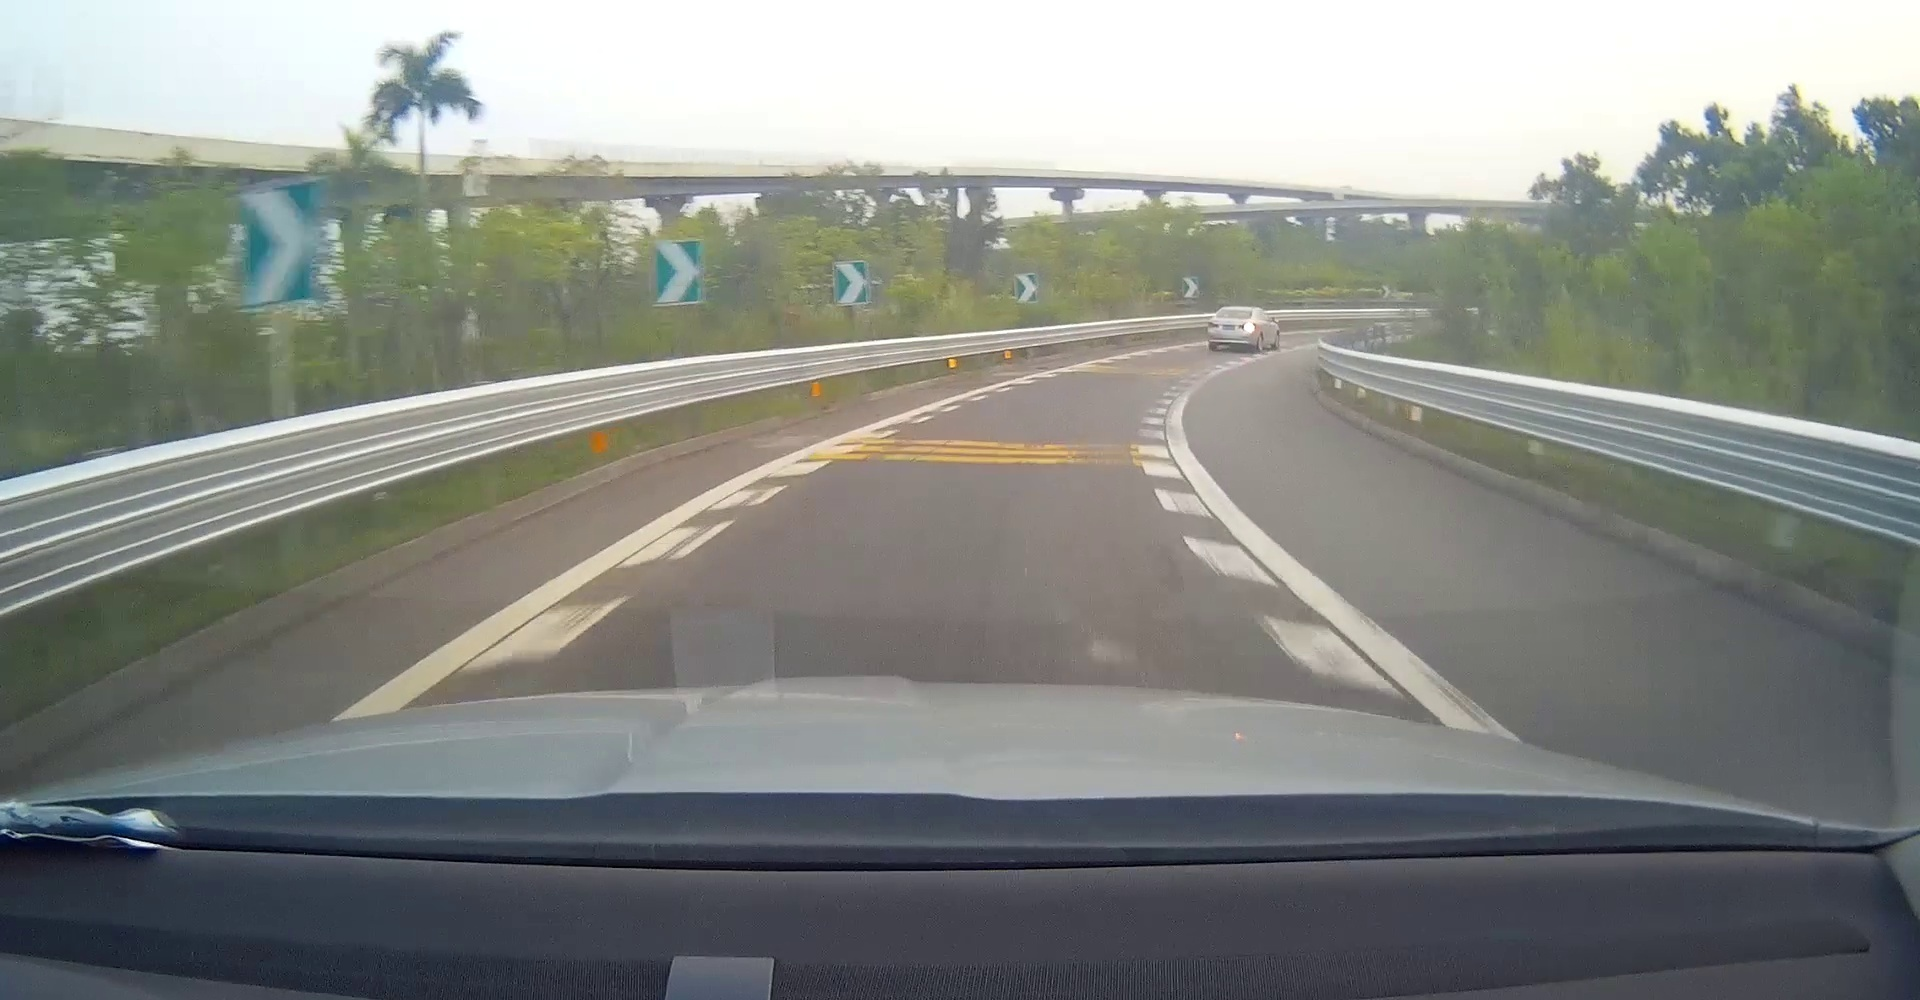L_light: (1208, 322, 1219, 327)
R_light: (1241, 324, 1255, 330)
T_light: (1230, 308, 1238, 311)
day-right: (1208, 306, 1256, 352)
